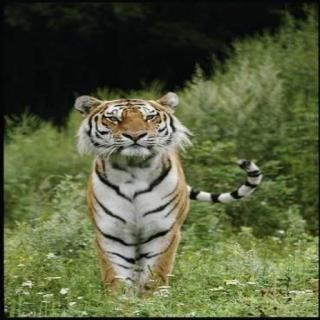Tiger: (71, 88, 265, 300)
